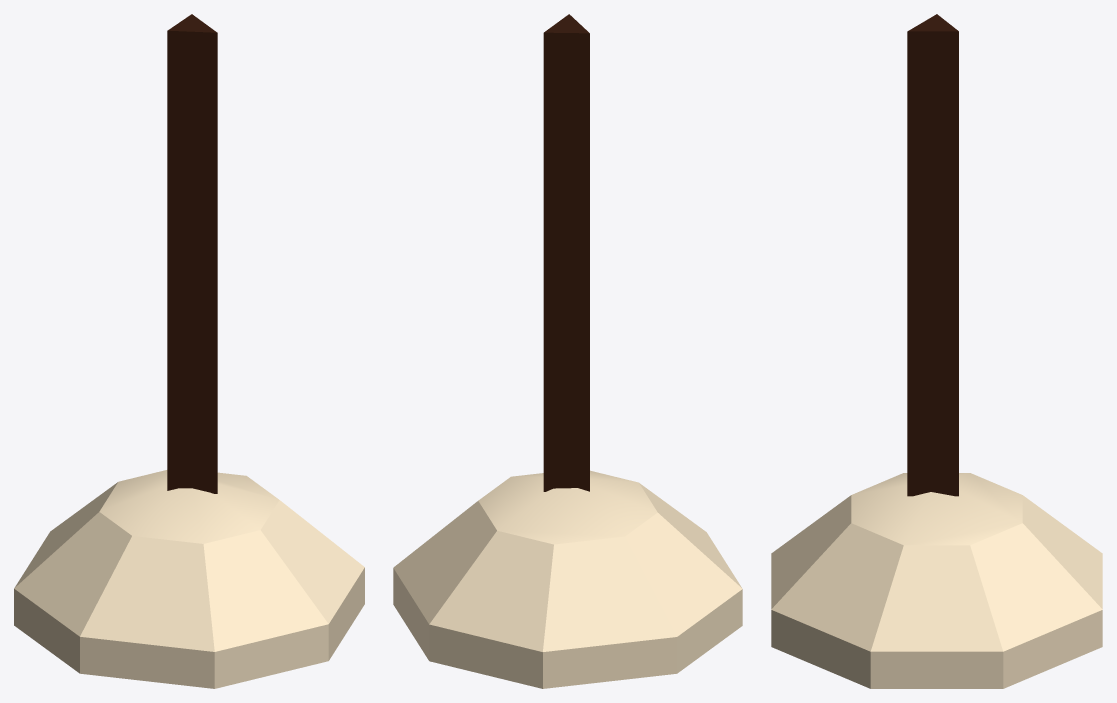
The model's file is ceiling_light.fbx.
3 renders of one model, left to right at view 1: azimuth 30°, elevation 25°; view 2: azimuth 150°, elevation 25°; view 3: azimuth 270°, elevation 25°, orthographic.
Parts seen in each view (by area): view 1: pCube473, pCube519; view 2: pCube473, pCube519; view 3: pCube473, pCube519.
Boxes of the visible parts, x1,y1,x2,y2 form: pCube473: (14,470,364,688); pCube519: (167,14,217,493); pCube473: (393,470,742,688); pCube519: (543,14,589,491); pCube473: (771,473,1102,688); pCube519: (907,14,958,496).
Bounding box in the file's own units: 69.32 × 137 × 69.32.
1 material, 1 textured.
